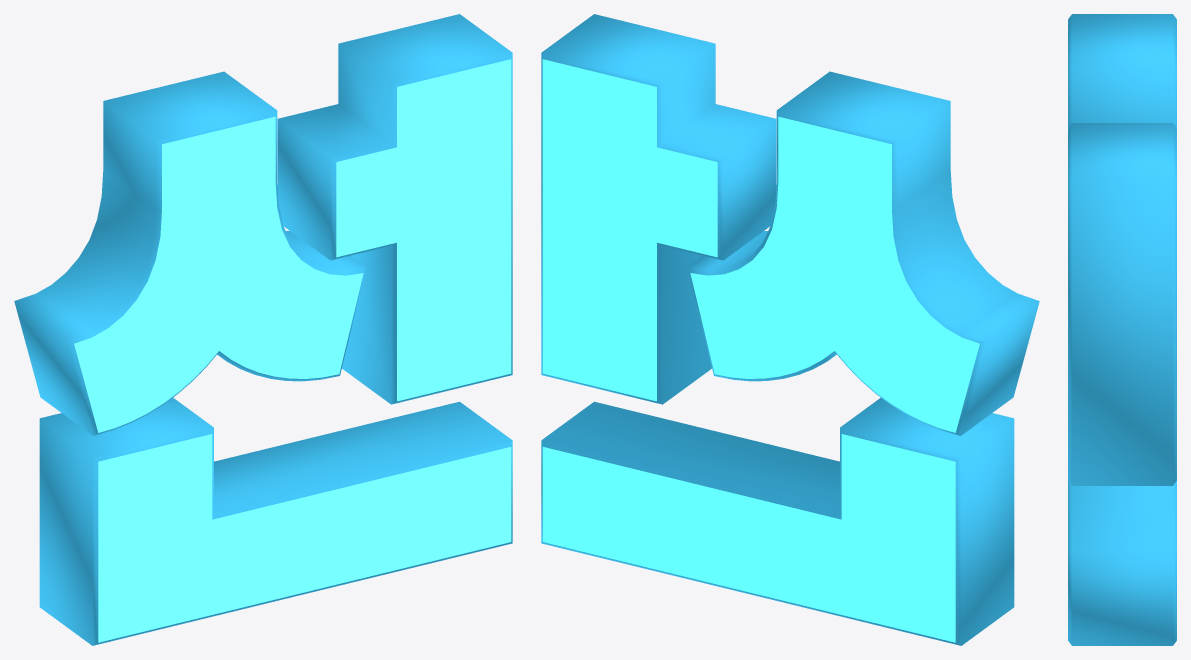
3 renders of one model, left to right at view 1: azimuth 30°, elevation 25°; view 2: azimuth 150°, elevation 25°; view 3: azimuth 270°, elevation 25°, orthographic. The views are drawn at different scales.
Parts seen in each view (by area): view 1: glyph; view 2: glyph; view 3: glyph.
Part boxes in pixels (x1,y1,x2,y2): glyph: [14, 14, 512, 645]; glyph: [541, 14, 1039, 645]; glyph: [1068, 14, 1176, 645].
Bounding box in the file's own units: 0.0728 × 0.0766 × 0.0162.
